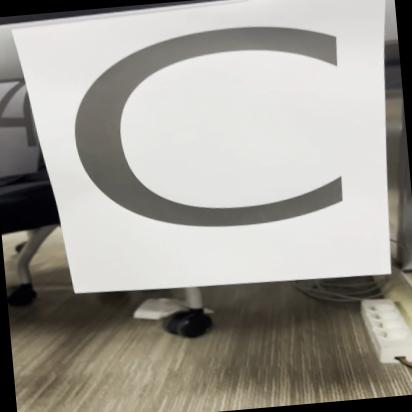seat: (0, 0, 412, 307)
